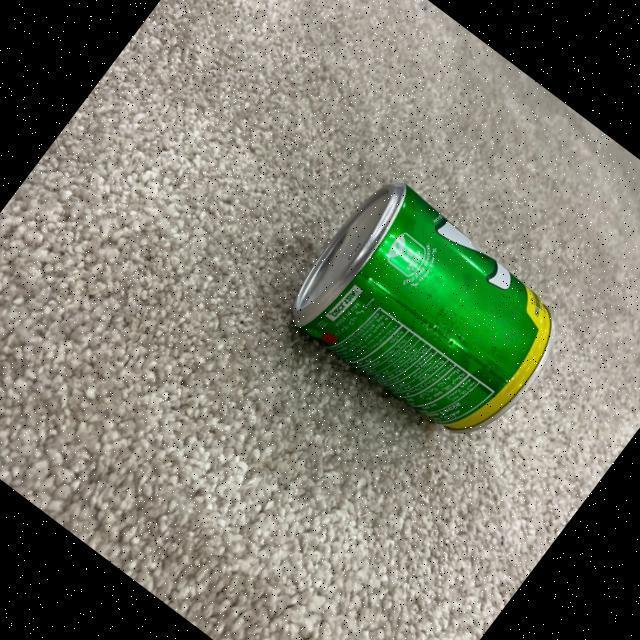can: (266, 162, 588, 472)
